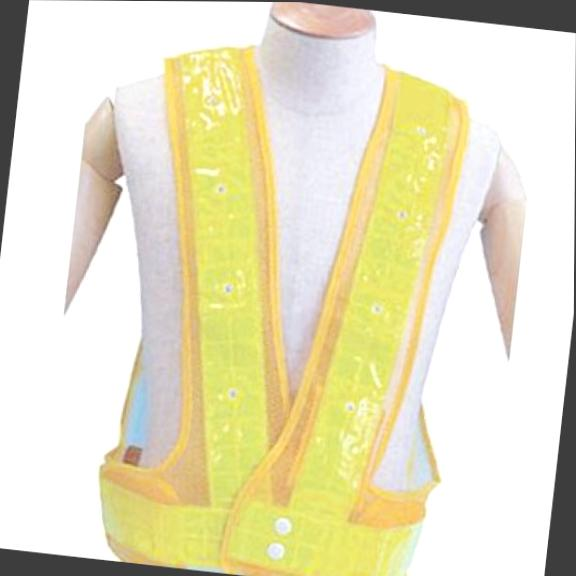safety_vest: (75, 28, 485, 576)
